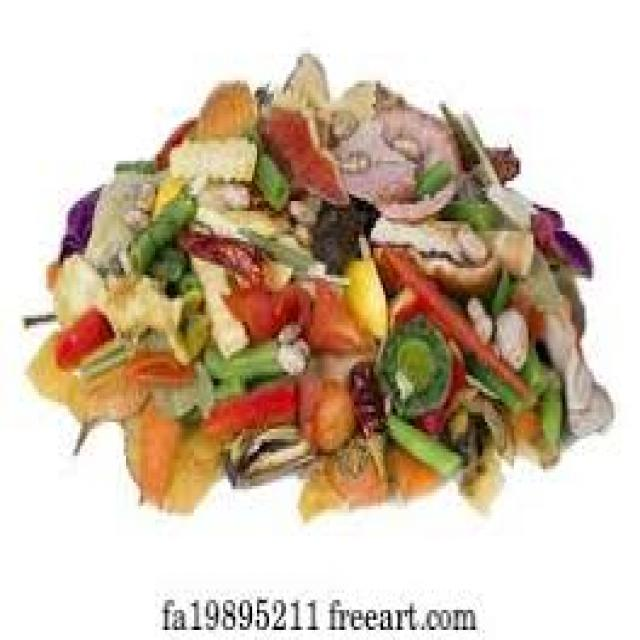organic waste: (371, 238, 521, 399), (322, 77, 458, 218), (24, 328, 141, 459), (264, 47, 344, 194), (124, 402, 225, 506), (104, 268, 214, 362), (260, 90, 344, 204), (373, 305, 451, 415), (516, 248, 580, 375), (296, 345, 378, 439), (199, 376, 296, 452), (116, 184, 199, 268), (17, 251, 107, 325), (85, 168, 153, 264), (301, 268, 373, 352), (223, 415, 308, 486), (184, 252, 245, 348), (373, 211, 485, 261), (446, 382, 512, 459), (383, 412, 461, 473), (560, 352, 611, 442), (177, 225, 262, 278), (417, 335, 463, 432), (442, 100, 499, 178), (531, 201, 589, 271), (150, 355, 216, 416), (322, 439, 388, 499), (337, 251, 383, 335), (165, 134, 250, 178), (56, 305, 111, 372), (220, 281, 278, 342), (310, 376, 354, 452), (247, 221, 318, 268), (386, 439, 446, 493), (502, 405, 555, 466), (475, 224, 538, 275), (458, 426, 499, 502), (199, 80, 252, 138), (352, 365, 381, 469), (59, 181, 100, 251), (192, 204, 284, 232), (296, 462, 346, 513), (269, 278, 310, 339), (439, 191, 502, 228), (492, 305, 526, 369), (480, 181, 533, 221), (134, 348, 196, 382), (548, 268, 582, 328), (152, 117, 192, 168), (257, 140, 286, 208), (230, 251, 288, 285), (143, 242, 189, 282), (536, 378, 562, 446), (180, 178, 248, 201), (146, 178, 184, 215), (488, 261, 512, 315), (466, 295, 492, 338), (276, 342, 306, 372), (325, 108, 354, 138), (485, 144, 514, 174), (334, 151, 371, 174), (111, 158, 158, 175), (393, 134, 419, 161), (274, 322, 298, 348), (286, 221, 310, 245), (46, 258, 63, 281)
